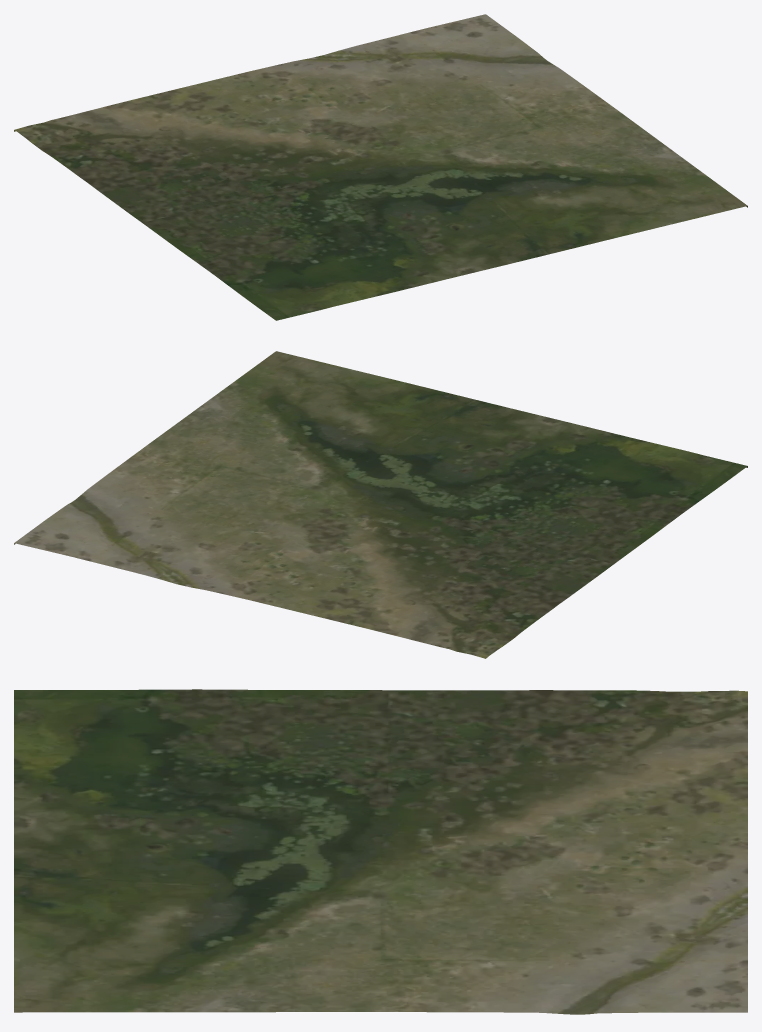
3 views of the same model, one above another, from view 1: azimuth 30°, elevation 25°; view 2: azimuth 150°, elevation 25°; view 3: azimuth 270°, elevation 25° (orthographic). The views are drawn at different scales.
Size of the model in its own units: 250 by 2.23 by 241.
Materials: 1 (1 with a texture image).
